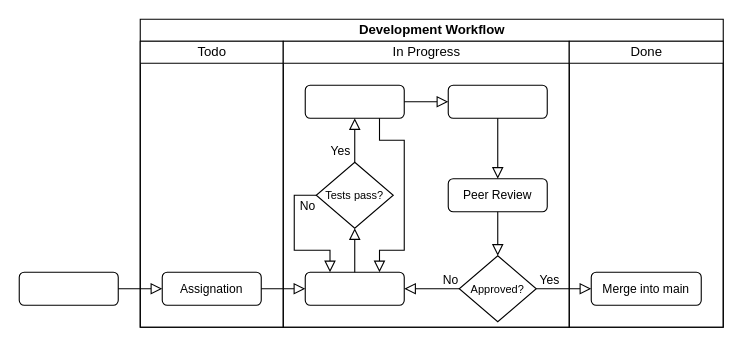
Image size: 743x347. Some labels were removed from this diagram. Each missing label, with the centre of its shape:
Commit: [354,101]
Create issue: [68,288]
Development: [354,288]
Pull Request: [497,101]
